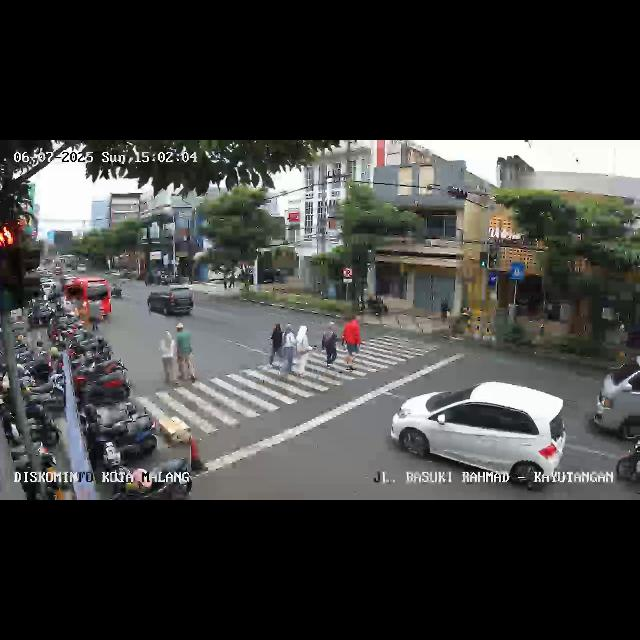car: (392, 384, 564, 496), (590, 359, 640, 441), (60, 275, 110, 329), (148, 286, 196, 318)
motorcycle: (608, 428, 640, 496), (111, 284, 122, 300)
person: (174, 322, 196, 386), (158, 329, 178, 395), (342, 315, 362, 373), (322, 320, 342, 370), (268, 320, 284, 374), (295, 326, 309, 378), (282, 324, 296, 374)
